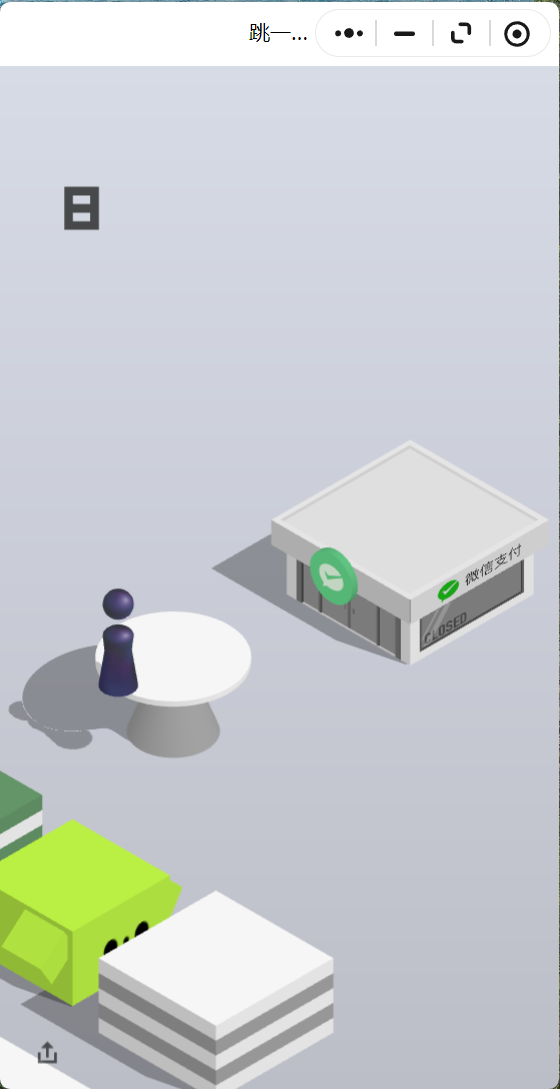piece: (103, 589, 134, 692)
target: (272, 439, 549, 600)
